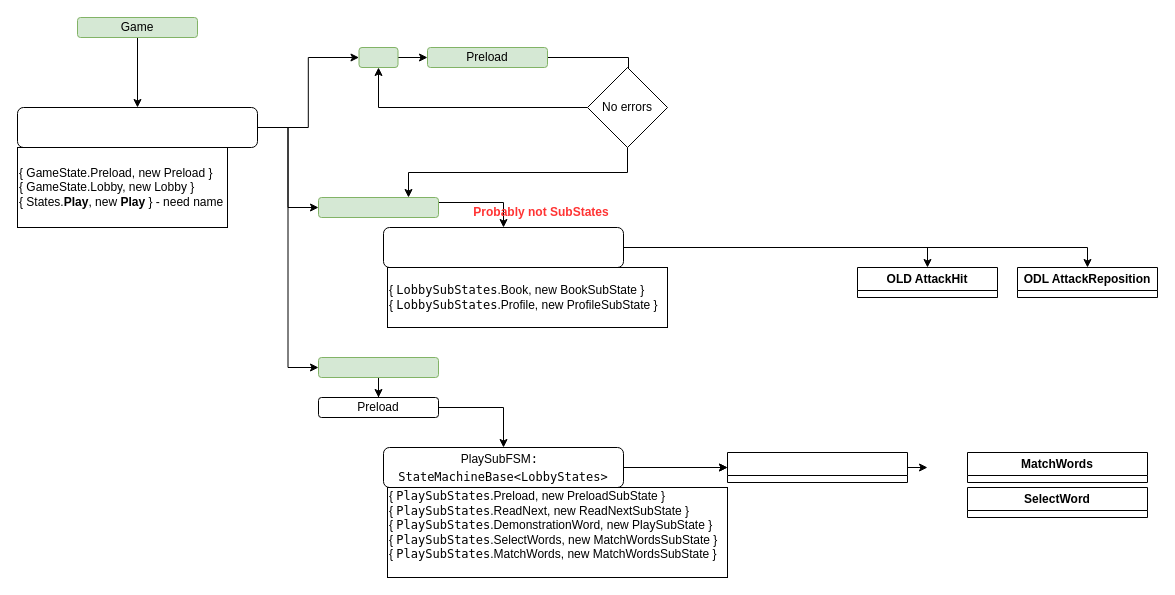
This 1175x595 diagram has some shape labels left out. The box of each missing label's shape, as (x1, y1, x2, y2) in pixels:
GameFSM : FSMUpdateBase<GameStates>: (16, 106, 258, 148)
Lobby: (318, 196, 438, 218)
LobbySubFSM : StateMachineBase<LobbyStates>: (382, 226, 624, 268)
Play: (318, 356, 438, 378)
PlayLogicSubstate: (726, 452, 908, 482)
ReEnter: (358, 46, 398, 68)
